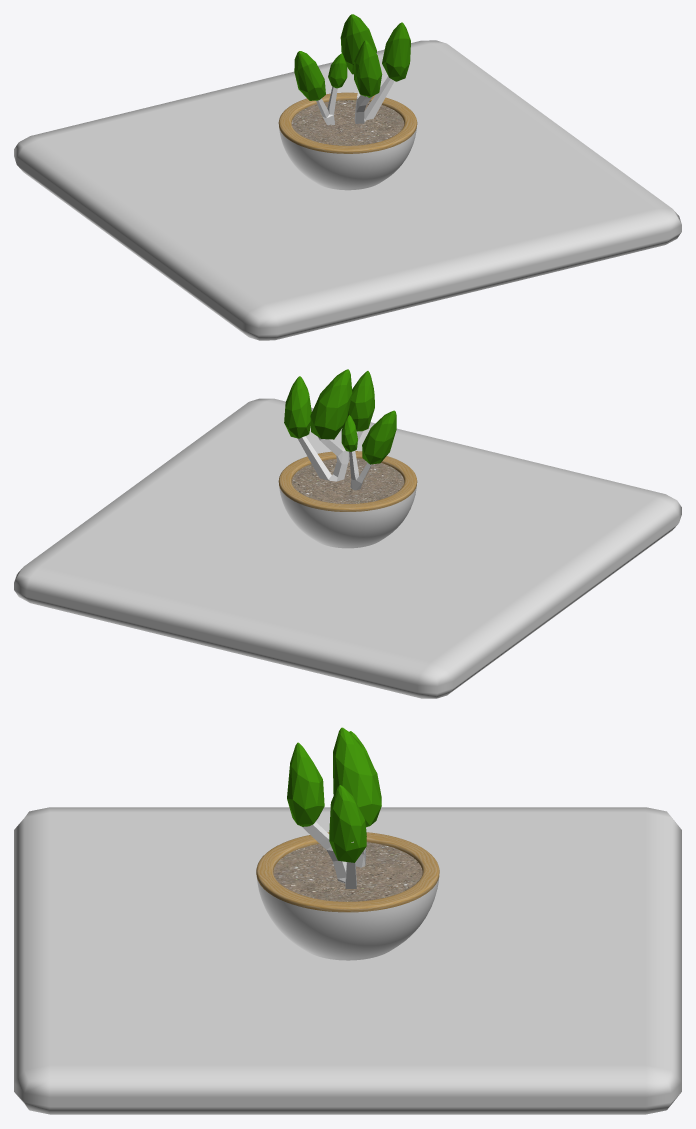
File: plant.glb
3 renders of one model, top to bottom at view 1: azimuth 30°, elevation 25°; view 2: azimuth 150°, elevation 25°; view 3: azimuth 270°, elevation 25°, orthographic. The views are drawn at different scales.
Visible parts, largest first — view 1: Box, treetop, pot 1, soil 1, wooden rim 1, tree; view 2: Box, treetop, pot 1, soil 1, wooden rim 1, tree; view 3: Box, treetop, pot 1, soil 1, wooden rim 1, tree.
Boxes of the visible parts, <box> form: Box: <box>14,40,681,340</box>; treetop: <box>294,14,410,100</box>; pot 1: <box>279,127,416,190</box>; soil 1: <box>291,100,404,145</box>; wooden rim 1: <box>278,92,417,153</box>; tree: <box>316,76,394,125</box>; Box: <box>14,398,681,698</box>; treetop: <box>284,369,396,464</box>; pot 1: <box>279,486,416,548</box>; soil 1: <box>291,458,404,503</box>; wooden rim 1: <box>278,451,417,511</box>; tree: <box>297,431,371,490</box>; Box: <box>14,807,681,1114</box>; treetop: <box>287,727,381,862</box>; pot 1: <box>256,877,439,960</box>; soil 1: <box>273,842,422,901</box>; wooden rim 1: <box>256,832,439,912</box>; tree: <box>302,822,365,888</box>.
Size of the model in its own units: 0.5 by 0.2118 by 0.5.
Materials: 6 (2 with a texture image).
